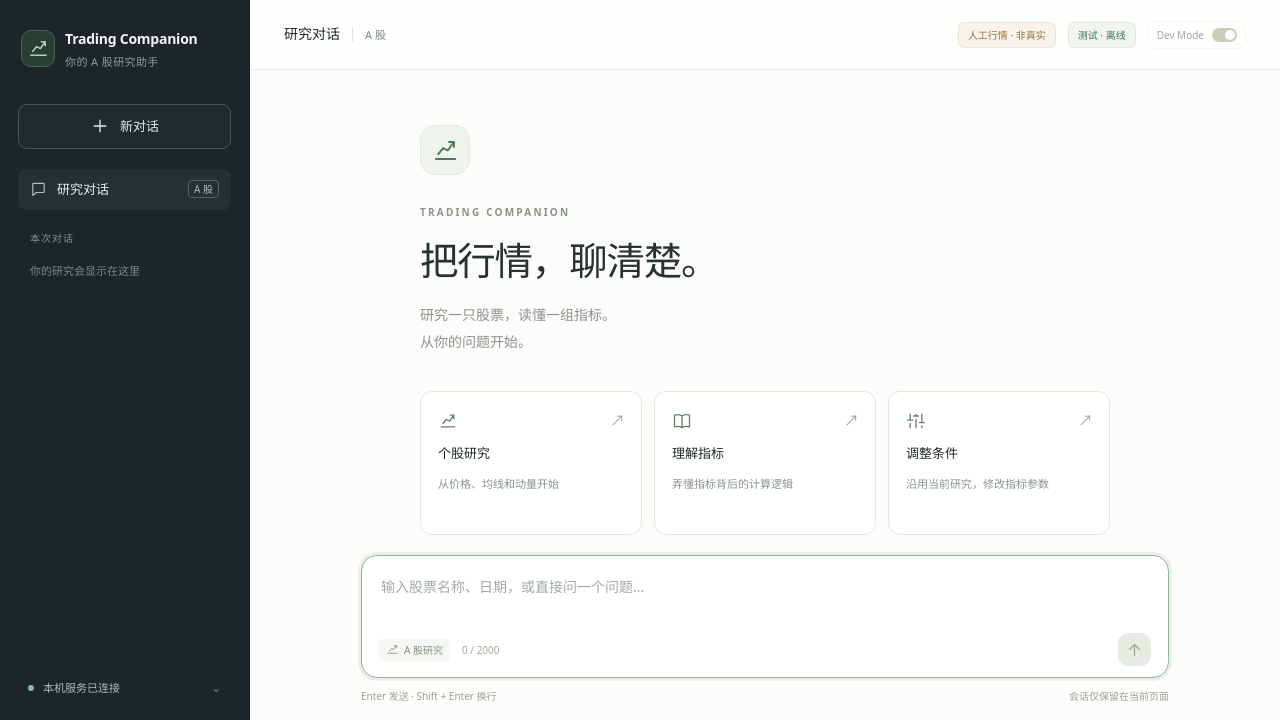
bounded research workflow projection › keeps the answer visible without mounting internal process records
In the text box named "研究问题": coordinates (765, 599) 379,572 -> 1151,626, type "分析平安银行"
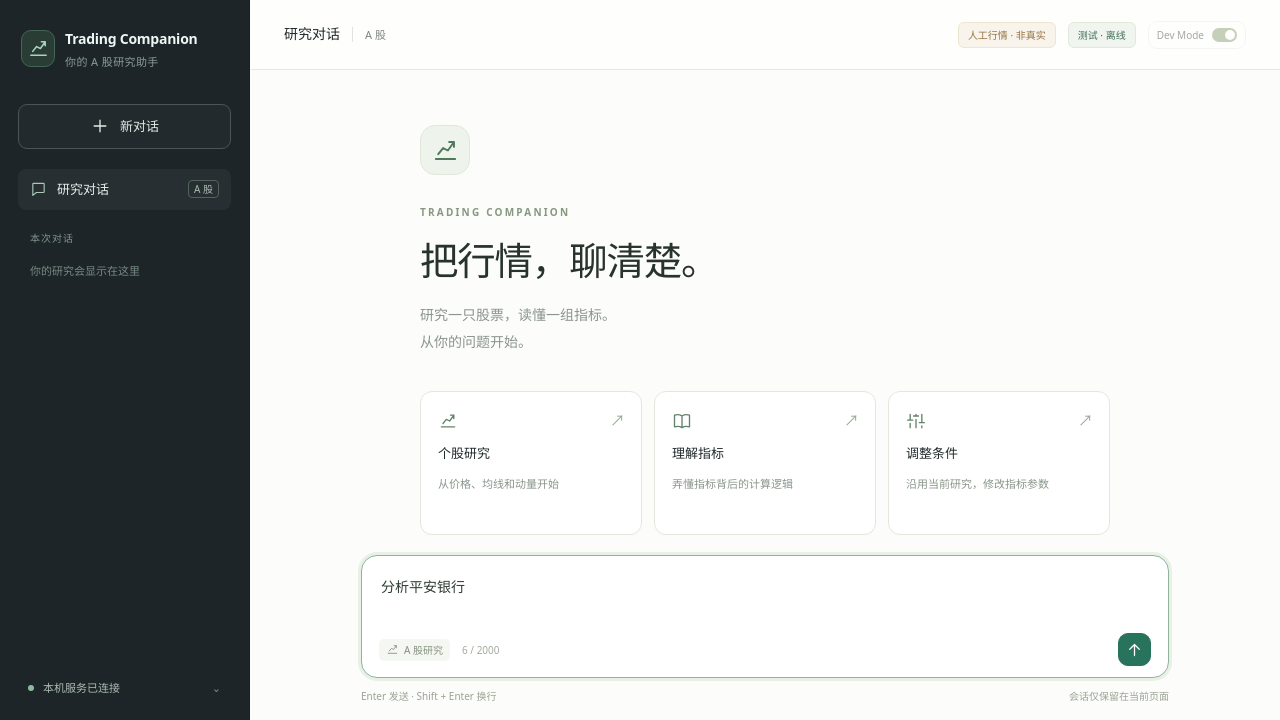
Click the button named "发送问题": coordinates (1134, 650) 1118,633 -> 1151,666
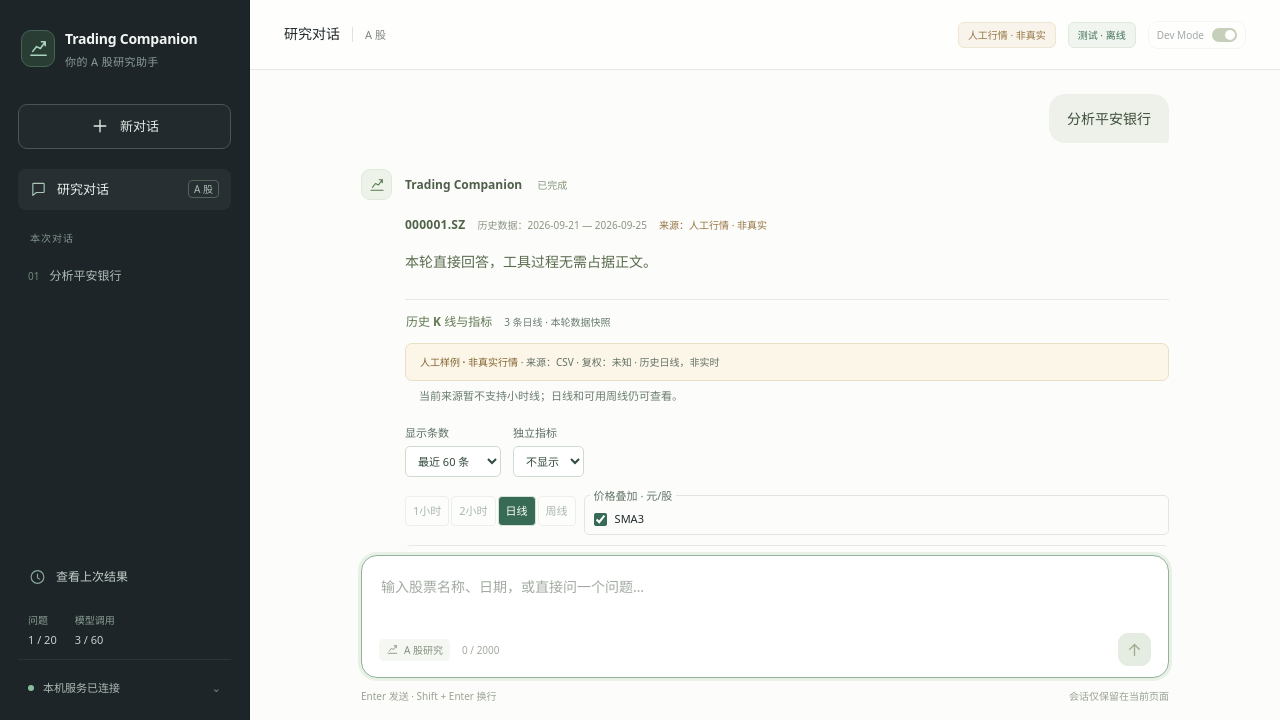
Check: the text "本轮直接回答，工具过程无需占据正文。" is shown, box 405,252 -> 657,271
